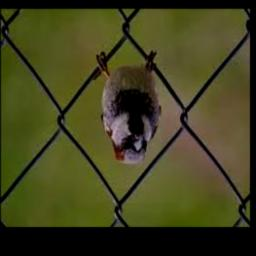Sparrow: (100, 63, 161, 165)
